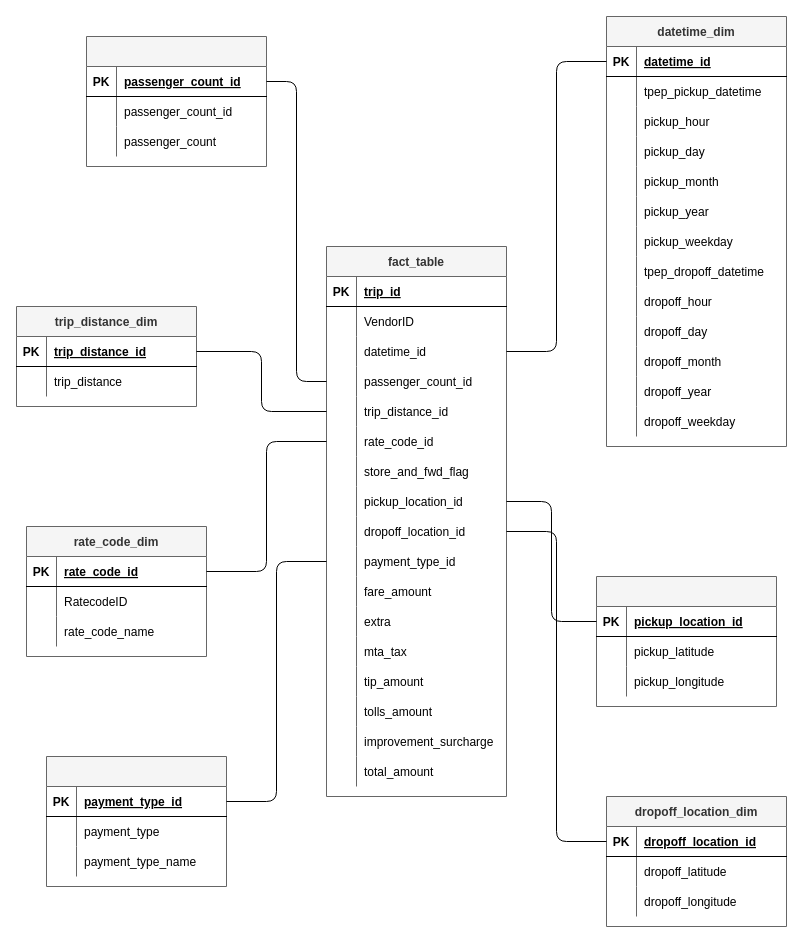
Some shapes in this 803 by 943 pixel diagram are drawn without their labels. Each missing label, with the box of its shape:
passenger_count_dim: (86, 36, 266, 166)
payment_type_dim: (46, 756, 226, 886)
pickup_location_dim: (596, 576, 776, 706)
